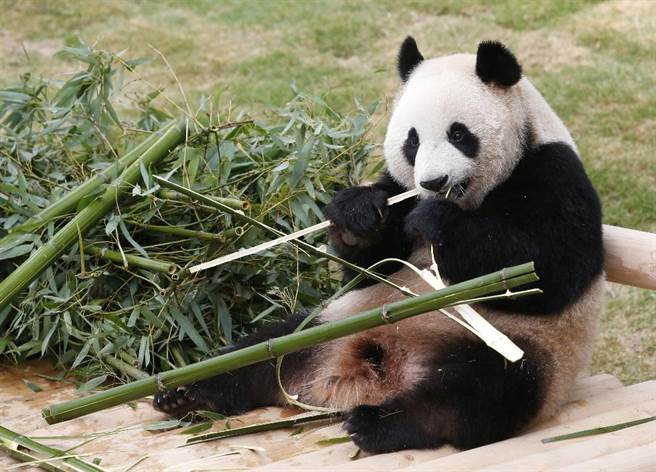panda: (145, 33, 617, 457)
